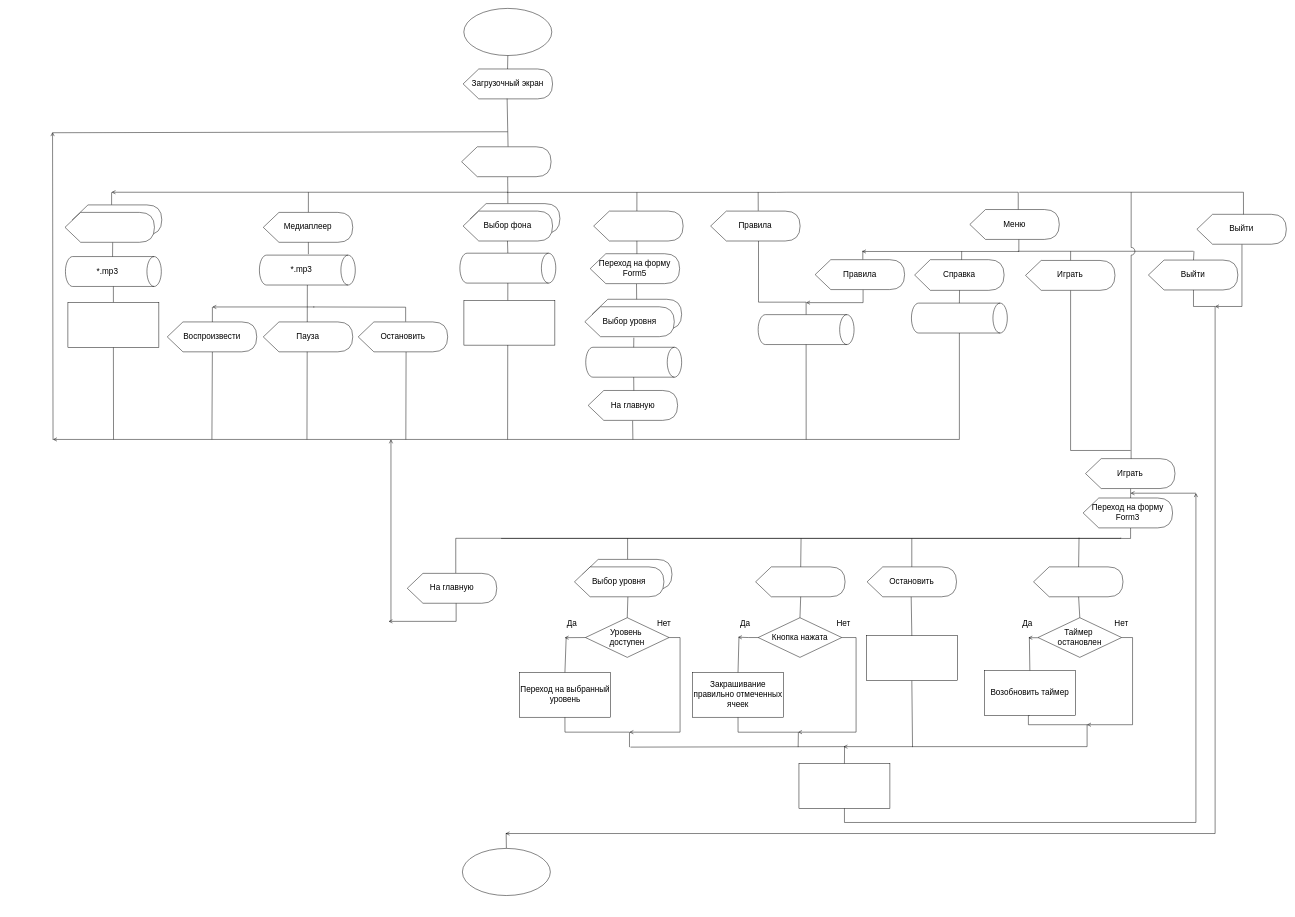
This 1295x917 diagram has some shape labels left out. The box of each missing label's shape, as (x1, y1, x2, y2) in pixels:
*.bmp: (459, 253, 556, 283)
*.txt: (585, 347, 682, 377)
воспроизведение музыки: (67, 302, 159, 347)
Выбор музыки: (65, 212, 154, 242)
Главная форма: (461, 146, 551, 177)
Конец: (462, 848, 550, 896)
Начало: (463, 8, 552, 56)
Подсвечивание: (755, 566, 845, 597)
Правила.txt: (758, 314, 854, 345)
Приостановка таймера: (866, 635, 957, 681)
Продолжить: (1033, 566, 1123, 597)
Прохождение уровня: (798, 763, 890, 808)
Справка.chp: (911, 303, 1007, 333)
Статистика: (593, 211, 683, 241)
Установка фона: (463, 300, 555, 345)
